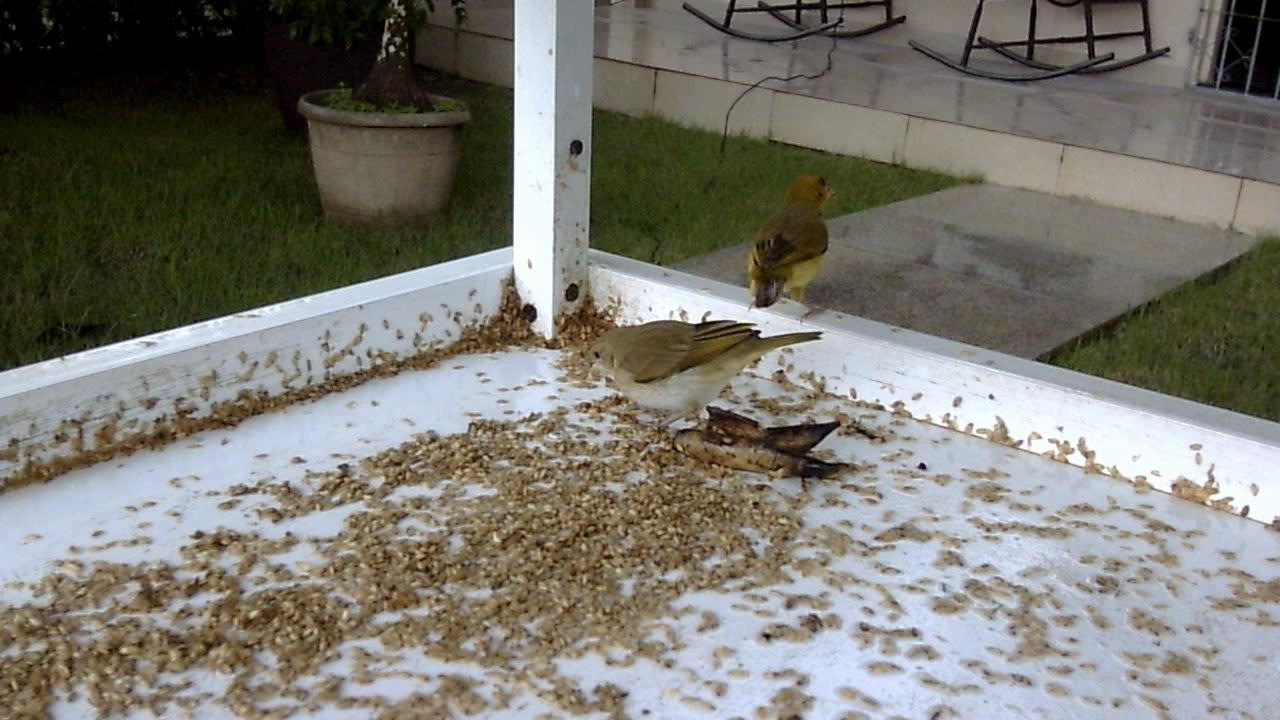canario_do_amazonas: (573, 310, 830, 450), (739, 171, 841, 327)
